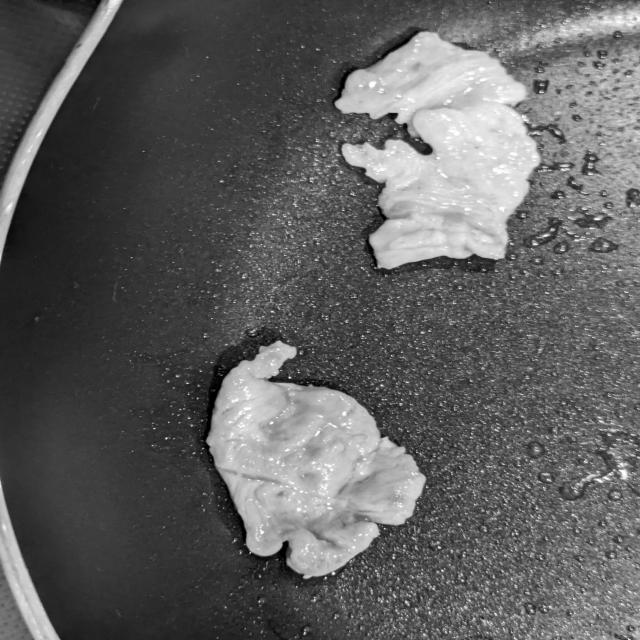NG undercooked pork,: (205, 334, 432, 581), (329, 26, 551, 278)
